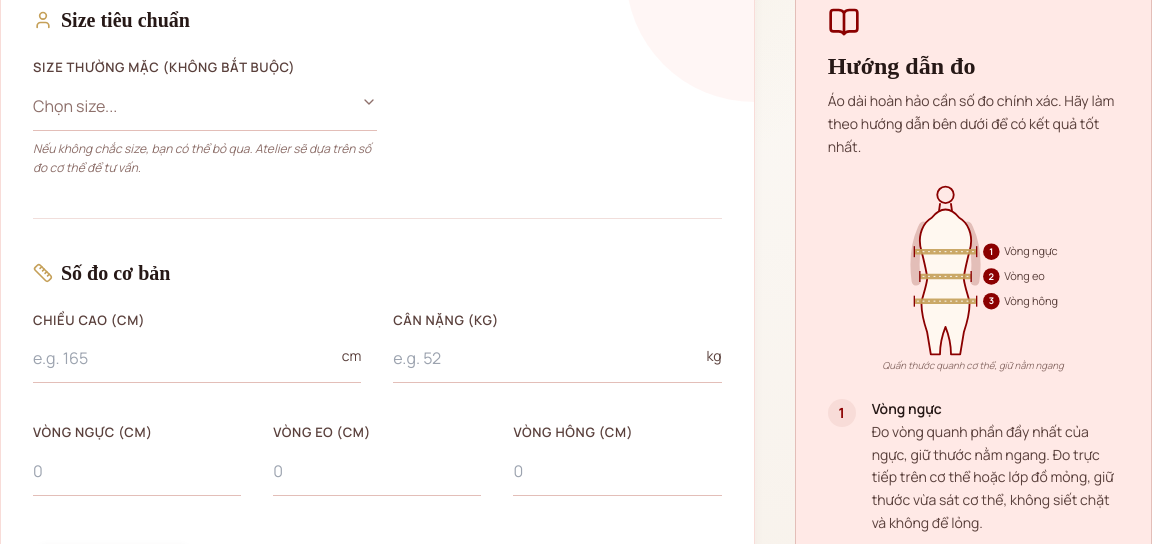
Test: CustomerMeasurementsPage › shows 'Lưu số đo' for first-time entry
Type "84" into the number field labelled "Vòng ngực (cm)".
click(137, 471); type("84")  # box [33,446,241,496]
(page scrolled)
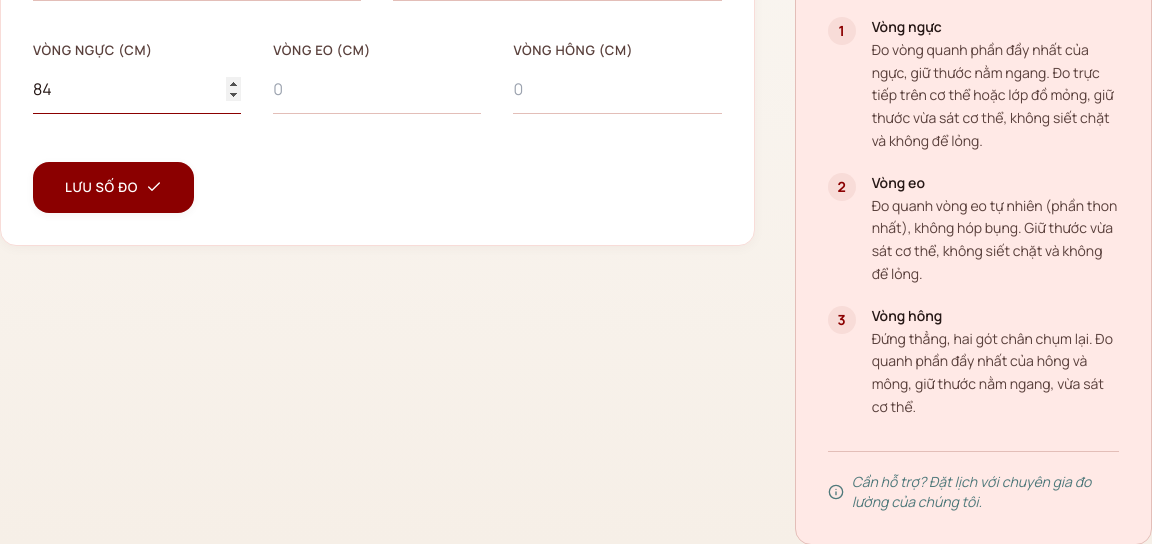
Click the button "Lưu số đo".
click(114, 187)  # box [33,162,194,213]
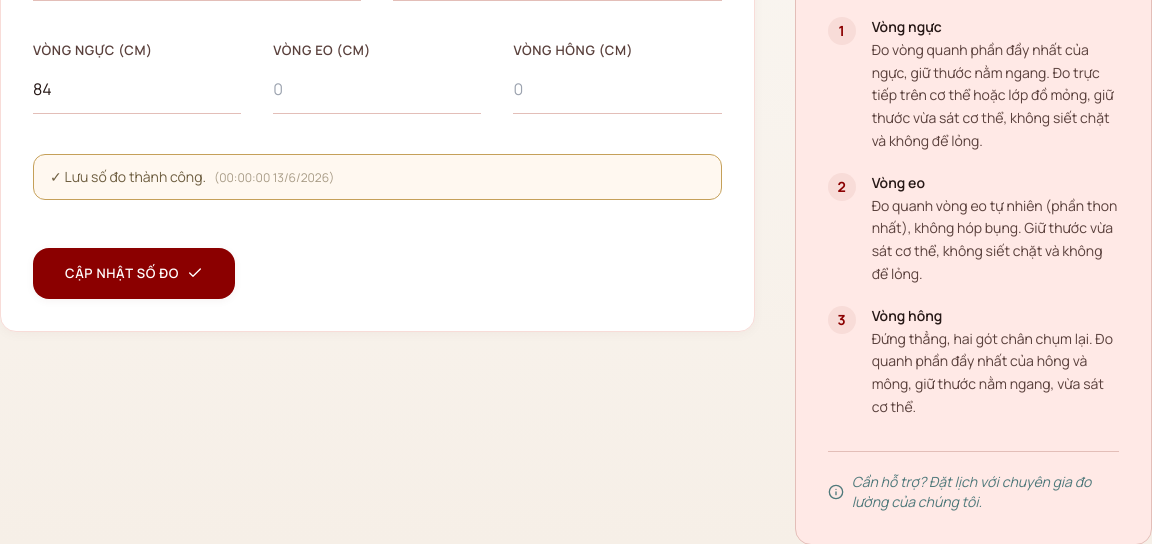
Now the text "✓ Lưu số đo thành công.(00:00:00 13/6/2026)" is shown, box [33,154,722,200]
